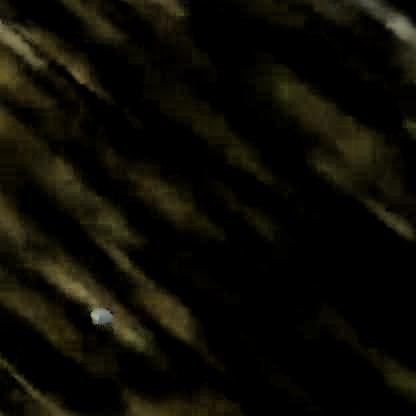golfball: (85, 309, 113, 328)
